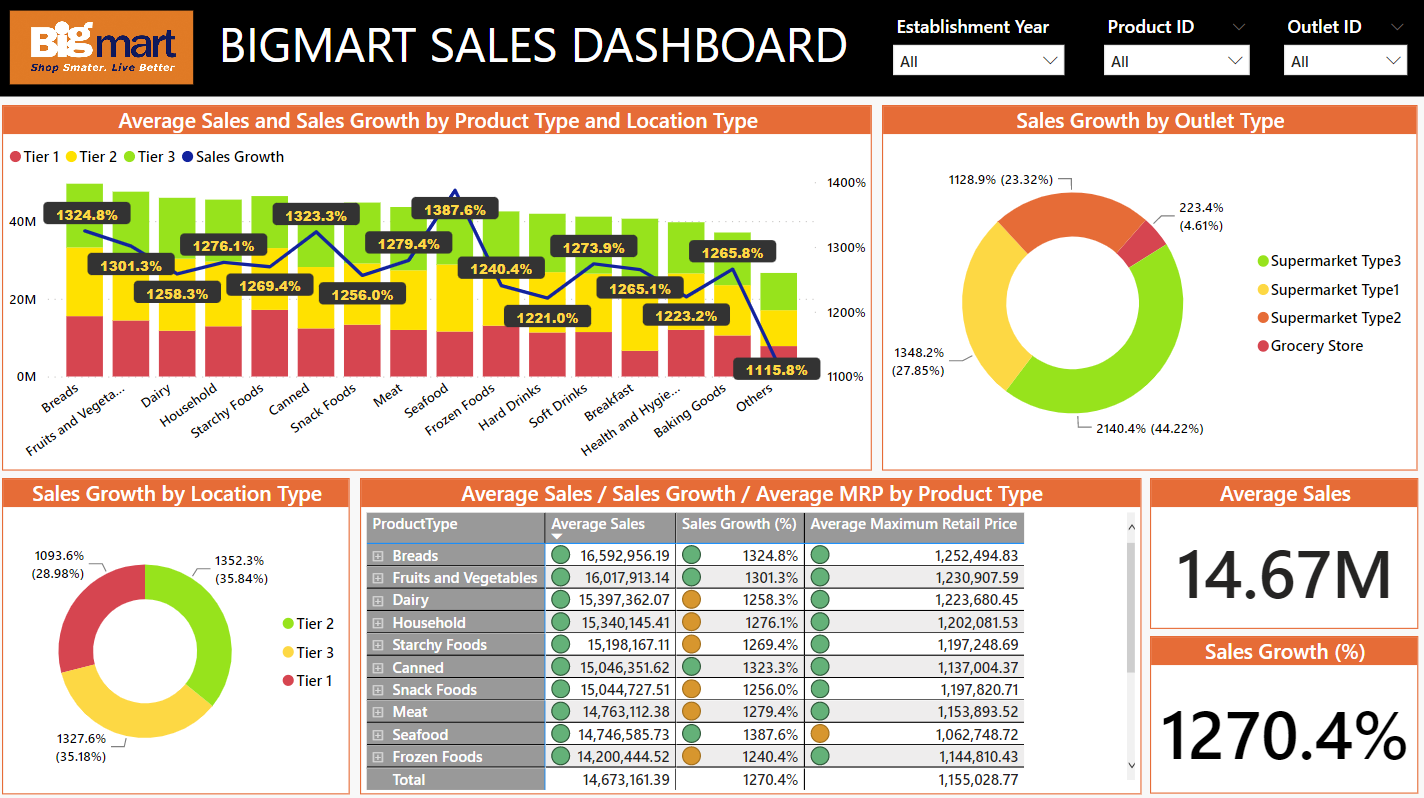

What the dashboard file says about the page in this screenshot:
{"tool":"powerbi","page":{"name":"Page 1","canvas":[1280,720],"ordinal":0},"visuals":[{"type":"shape","box":[0,0,1280,89.5],"z":0},{"type":"image","box":[6.8,6.8,177,75.9],"z":1},{"type":"textbox","box":[195.5,6.8,589.4,75.9],"z":2},{"type":"lineStackedColumnComboChart","title":"Average Sales and Sales Growth by Product Type and Location Type","fields":{"Category":["Product.ProductType"],"Series":["Sales.LocationType"],"Y":["Avg(Sales.Sales)"],"Y2":["Sales.Sales Growth (%)"]},"box":[6.8,96.3,778.1,326.8],"z":4},{"type":"donutChart","title":"Sales Growth by Outlet Type ","fields":{"Category":["Outlet.OutletType"],"Y":["Sales.Sales Growth (%)"]},"box":[794.7,96.3,478.5,326.8],"z":5},{"type":"donutChart","title":"Sales Growth by Location Type ","fields":{"Category":["Sales.LocationType"],"Y":["Sales.Sales Growth (%)"]},"box":[6.8,429.9,311.2,283],"z":6},{"type":"pivotTable","title":"Average Sales / Sales Growth / Average MRP by Product Type","fields":{"Rows":["Product.ProductType","Outlet.OutletType","Sales.LocationType"],"Values":["Avg(Sales.Sales)","Sales.Sales Growth (%)","Avg(Sales.MRP)"]},"box":[327.8,429.9,699.3,283],"z":7},{"type":"card","title":"Average Sales","fields":{"Values":["Avg(Sales.Sales)"]},"box":[1033.9,429.9,240.2,135.2],"z":8},{"type":"card","title":"Sales Growth (%)","fields":{"Values":["Sales.Sales Growth (%)"]},"box":[1033.9,571.9,240.2,141],"z":9},{"type":"slicer","fields":{"Values":["Sales.EstablishmentYear"]},"box":[794.7,9.7,173.1,70],"z":10},{"type":"slicer","fields":{"Values":["Sales.ProductID"]},"box":[983.3,9.7,149.8,70],"z":11},{"type":"slicer","fields":{"Values":["Sales.OutletID"]},"box":[1143.8,9.7,130.3,70],"z":12}]}

Visuals, with their boxes in screenshot pixels (x1, y1, x2, y2), scaled from the page's 1280x720 canvas onto the 1424x798 screenshot:
shape: box(0, 0, 1423, 99)
image: box(8, 8, 204, 92)
textbox: box(217, 8, 873, 92)
"Average Sales and Sales Growth by Product Type and Location Type" lineStackedColumnComboChart: box(8, 107, 873, 469)
"Sales Growth by Outlet Type " donutChart: box(884, 107, 1416, 469)
"Sales Growth by Location Type " donutChart: box(8, 476, 354, 790)
"Average Sales / Sales Growth / Average MRP by Product Type" pivotTable: box(365, 476, 1143, 790)
"Average Sales" card: box(1150, 476, 1417, 626)
"Sales Growth (%)" card: box(1150, 634, 1417, 790)
slicer - Sales.EstablishmentYear: box(884, 11, 1077, 88)
slicer - Sales.ProductID: box(1094, 11, 1261, 88)
slicer - Sales.OutletID: box(1272, 11, 1417, 88)
